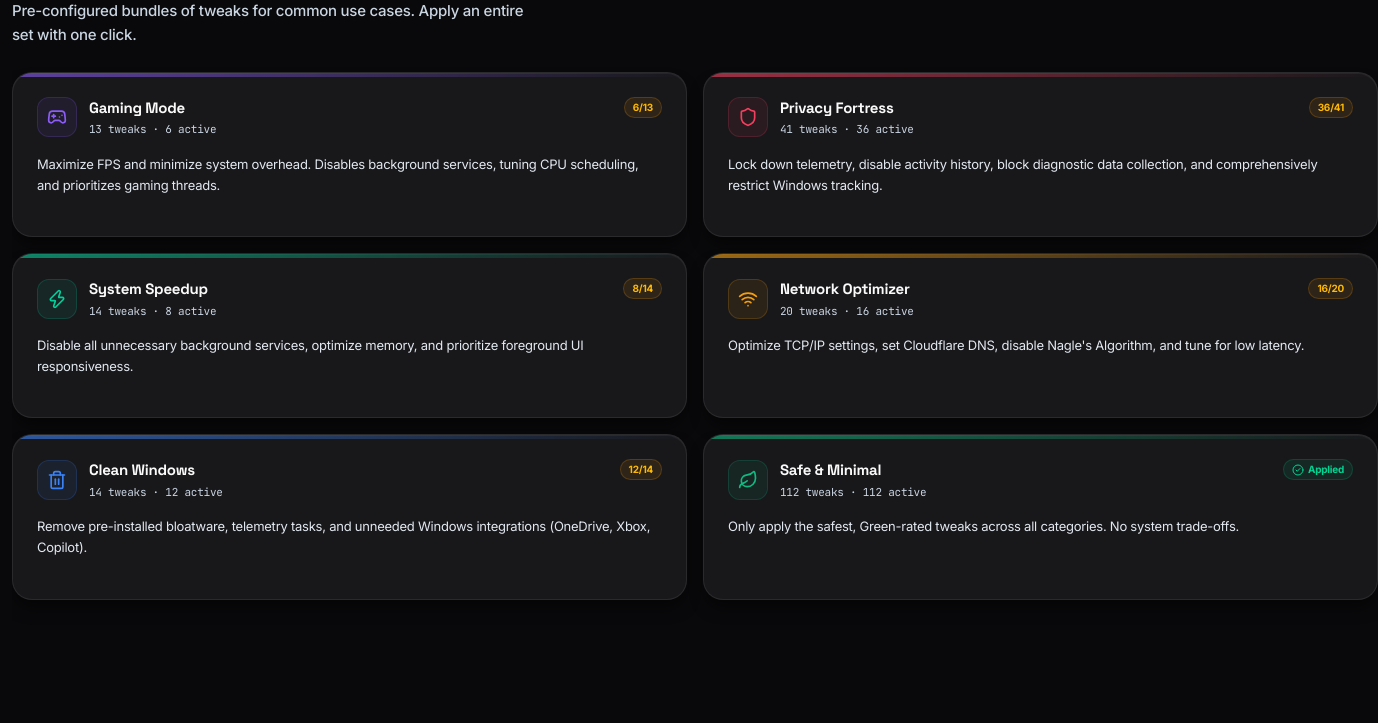
Test: ProfilesPage › shows info toast if all profile tweaks already applied
Click the heading "Safe & Minimal": click(831, 470) [780, 460, 881, 479]
(page scrolled)
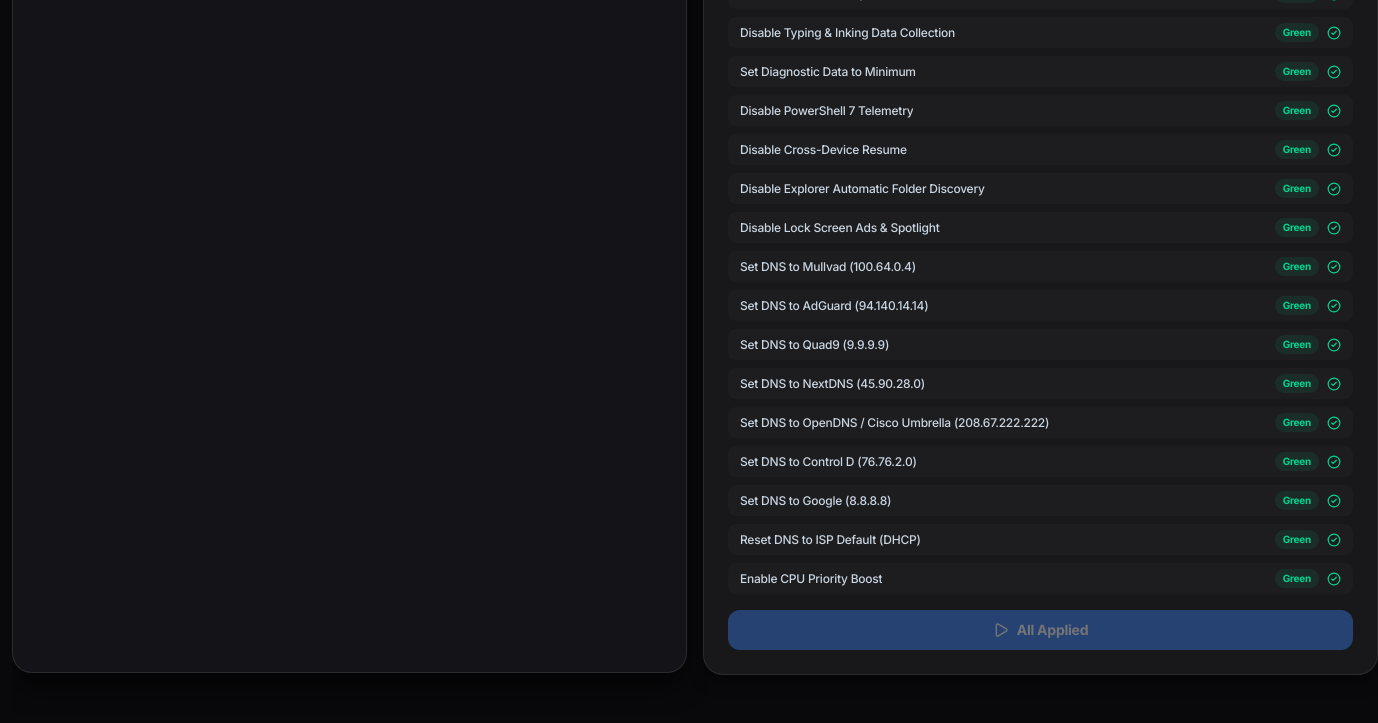
Expected: the button "All Applied" is disabled, [728, 610, 1353, 650]
